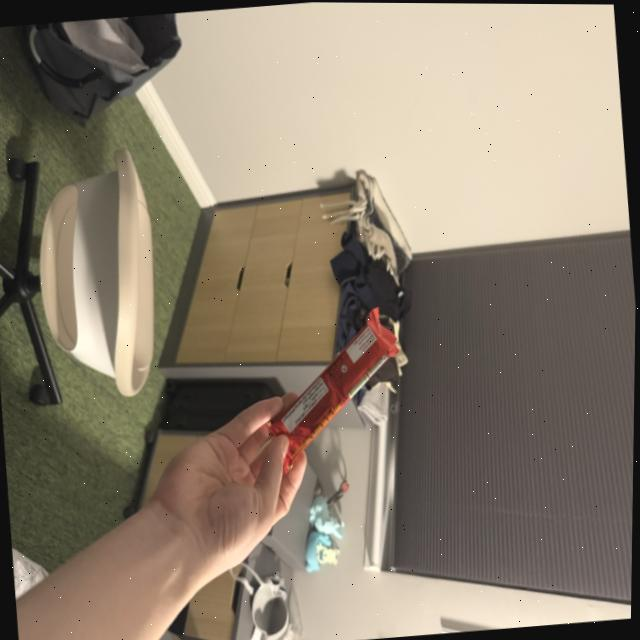chocolate: (257, 300, 415, 477)
